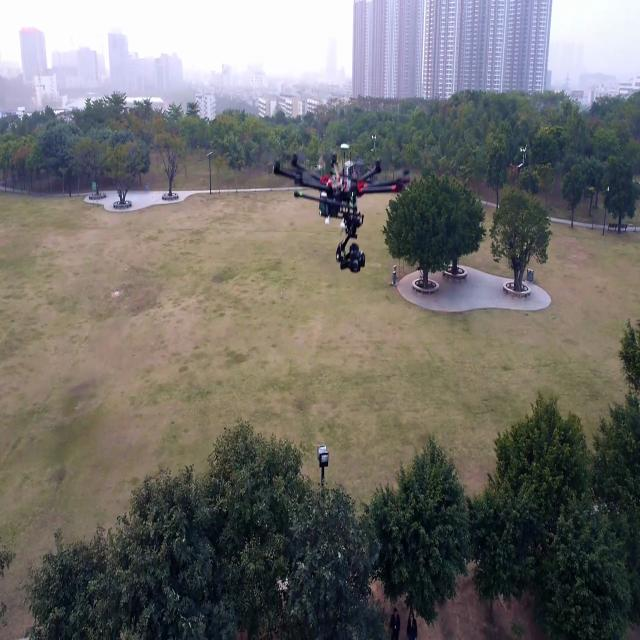drone: (272, 136, 412, 280)
